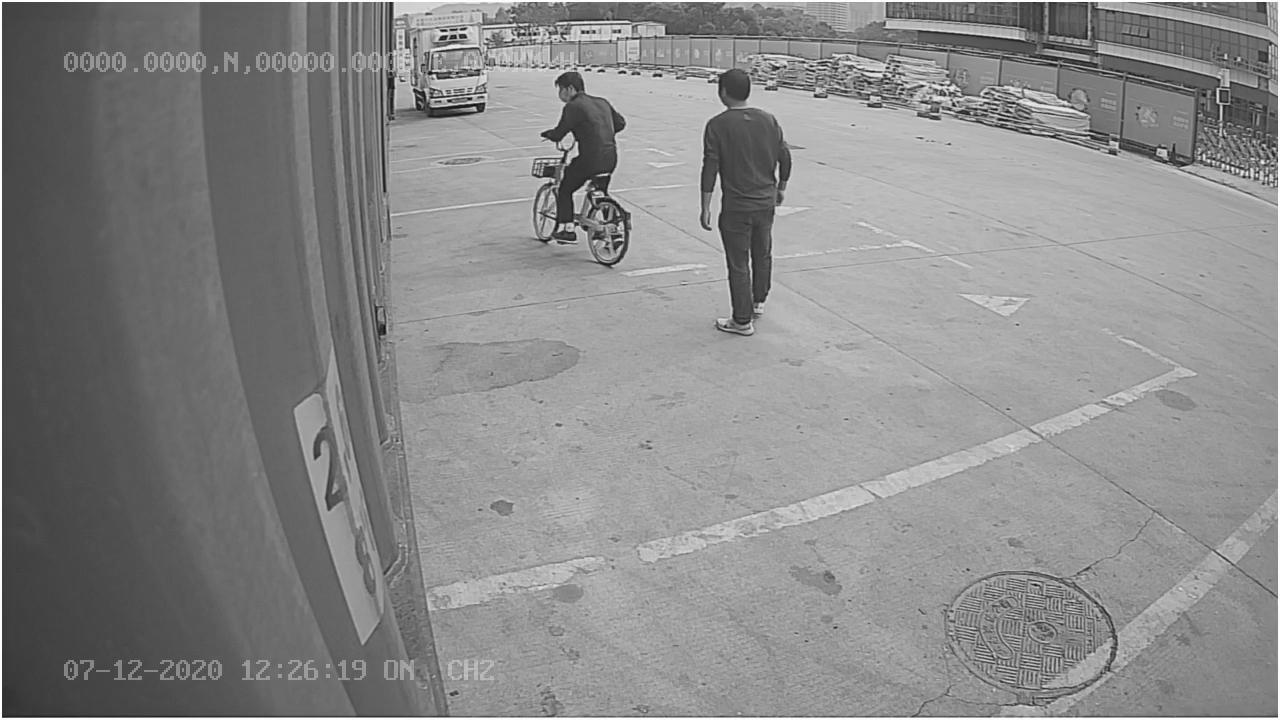person: (696, 65, 798, 339)
